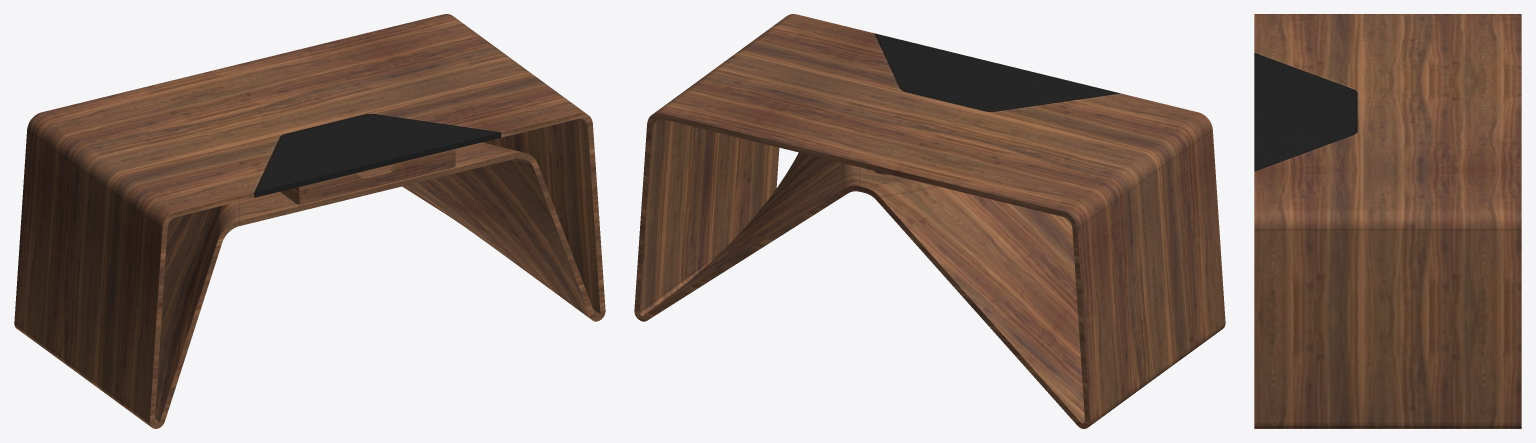
The picture shows the model from 3 angles, left to right: view 1: azimuth 30°, elevation 25°; view 2: azimuth 150°, elevation 25°; view 3: azimuth 270°, elevation 25°; orthographic projection.
Visible parts, largest first — view 1: table_01_low, table_03_low; view 2: table_01_low; view 3: table_01_low.
Part boxes in pixels (x1,y1,x2,y2): table_01_low: (14, 14, 605, 428); table_03_low: (297, 149, 455, 204); table_01_low: (634, 14, 1225, 428); table_01_low: (1254, 14, 1521, 428).
Bounding box in the file's own units: 175 × 77.99 × 90.02.
Materials: 1 (1 with a texture image).
